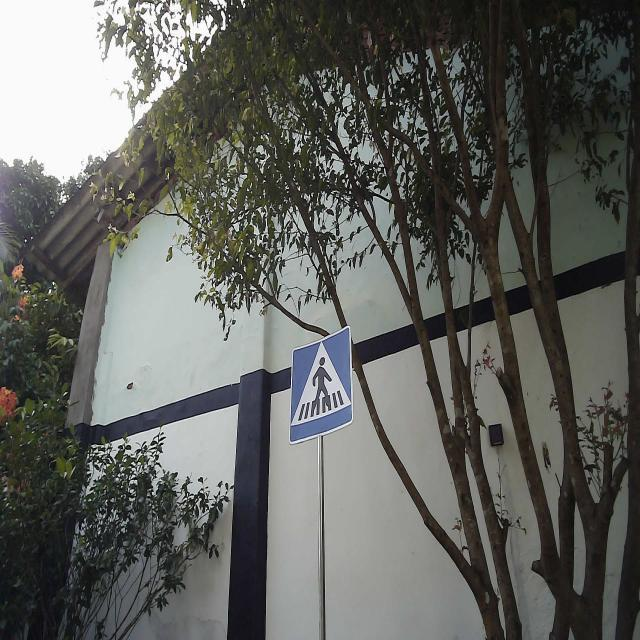crosswalk_sign: (288, 324, 356, 447)
